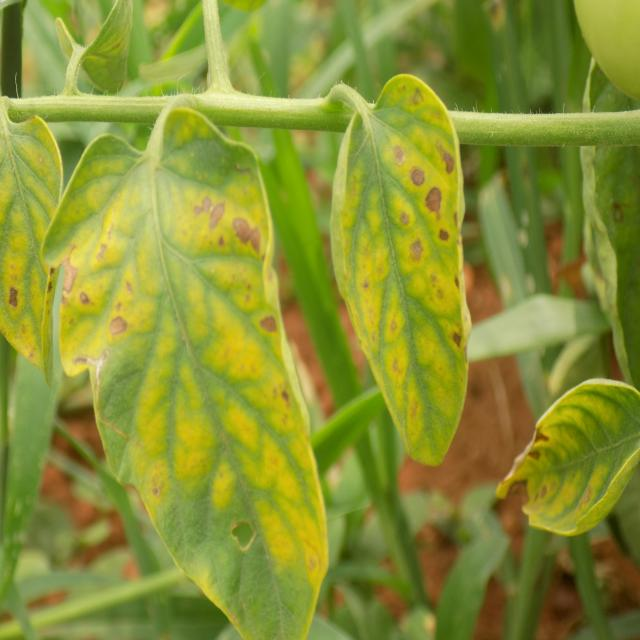tomato_early blight: (30, 106, 326, 640), (338, 69, 472, 468), (483, 373, 640, 534), (0, 102, 70, 370)
